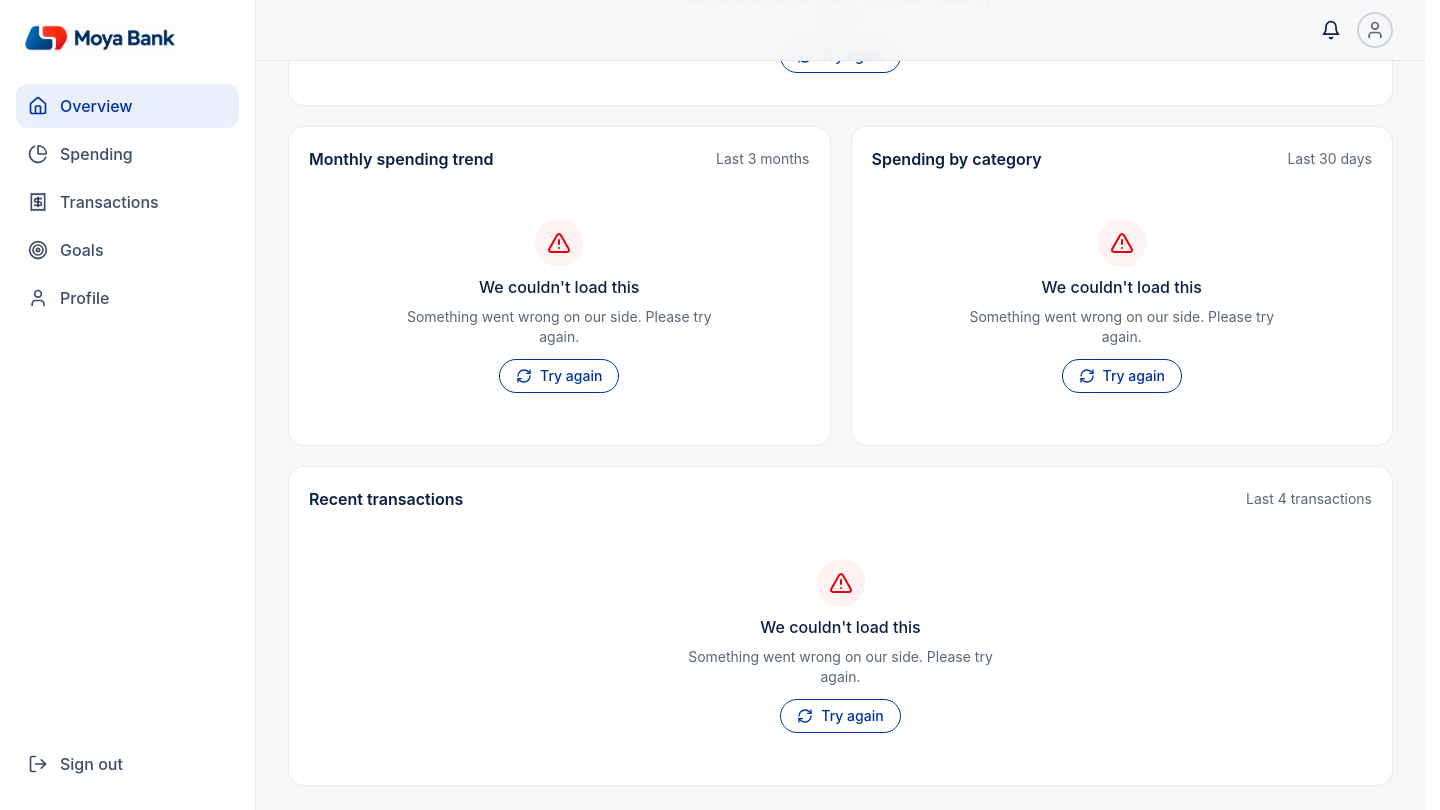
Test: Overview: spending service failing › recovers when a retry succeeds
(page scrolled)
Click the 3rd button "Try again": (840, 716) [780,699,901,733]
(page scrolled)
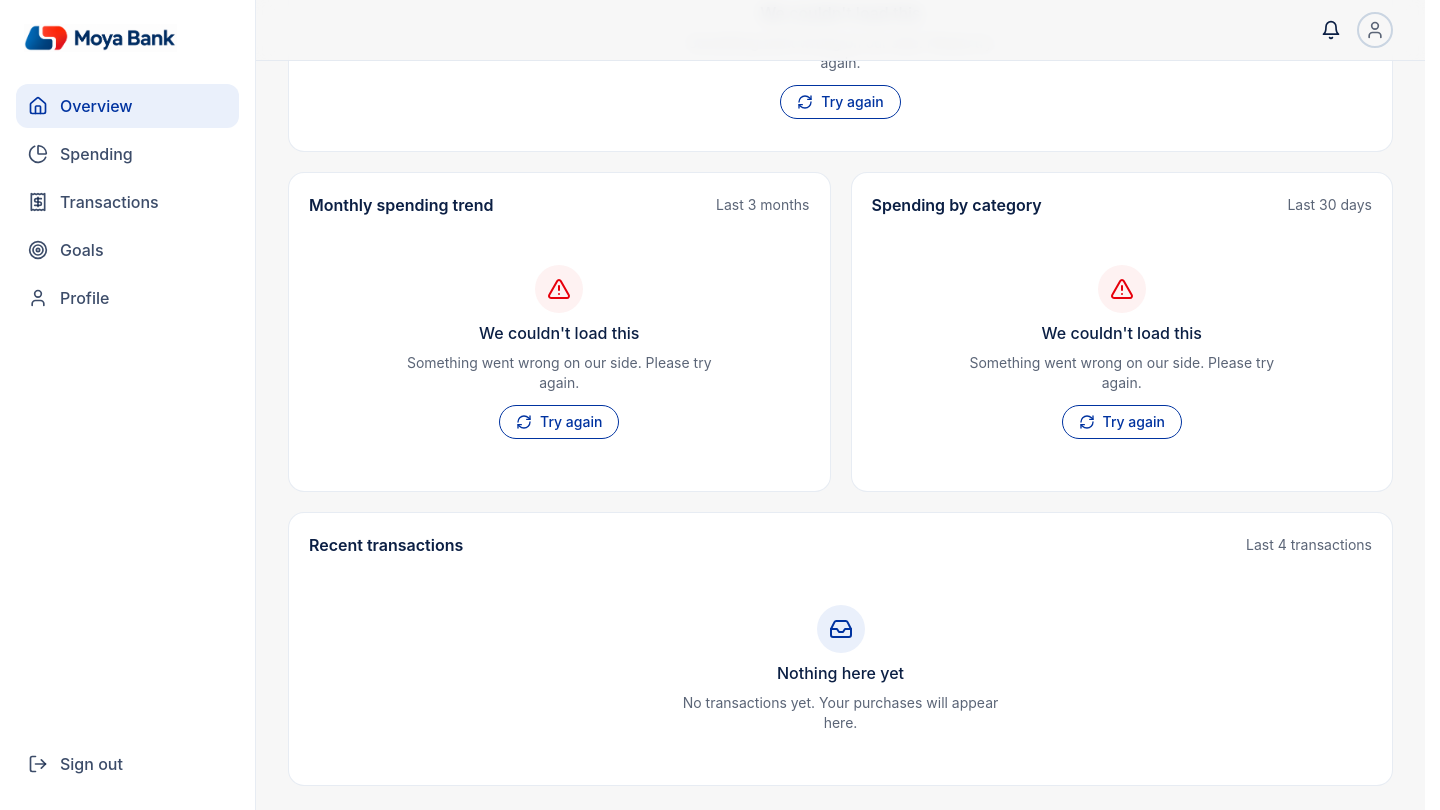
expect the text "No transactions yet. Your purchases will appear here." is shown: met, box [680,693,1000,733]
